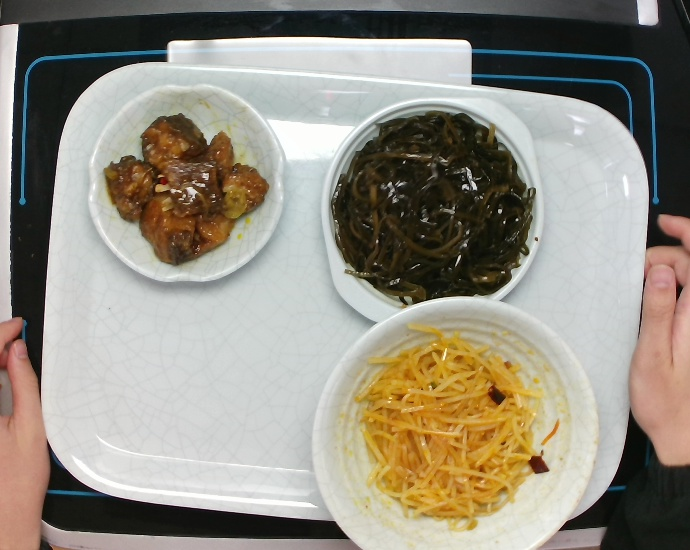JYsf-Ao_Yuan_Wan: (84, 80, 290, 286)
JYsf-Shuang_Er_Pan: (318, 94, 546, 325)
JYsf-Xiao_Tang_Wan: (308, 293, 602, 550)
